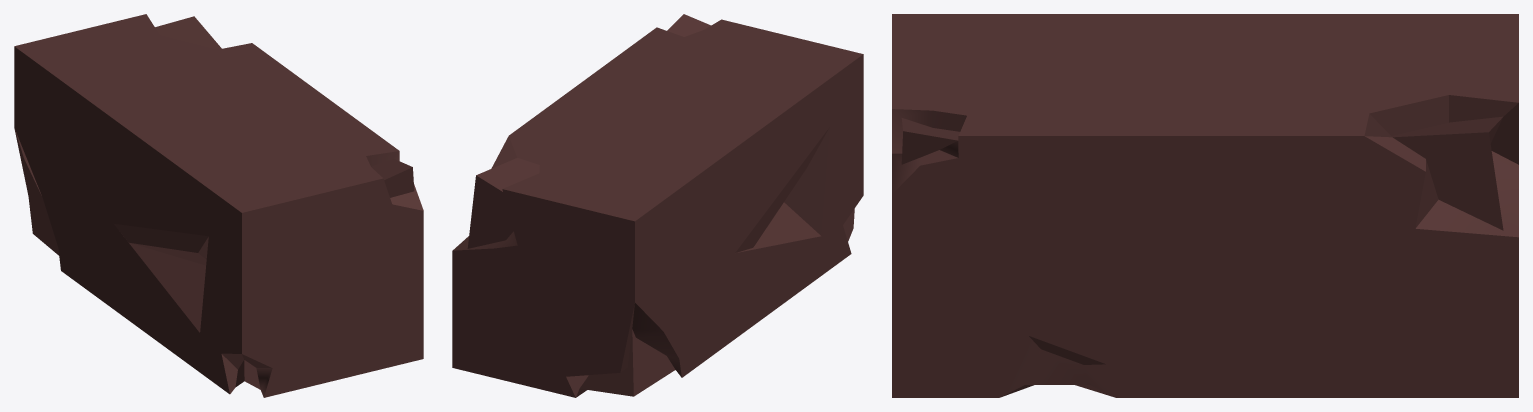
The model's file is 48_lone_brick.fbx.
3 views of the same model, side by side, from view 1: azimuth 30°, elevation 25°; view 2: azimuth 150°, elevation 25°; view 3: azimuth 270°, elevation 25° (orthographic). The views are drawn at different scales.
Visible parts, largest first — view 1: pCube50; view 2: pCube50; view 3: pCube50.
Part boxes in pixels (x1,y1,x2,y2): pCube50: [14, 14, 423, 397]; pCube50: [452, 14, 863, 397]; pCube50: [892, 14, 1518, 397].
Bounding box in the file's own units: 0.207 × 0.2054 × 0.4448.
